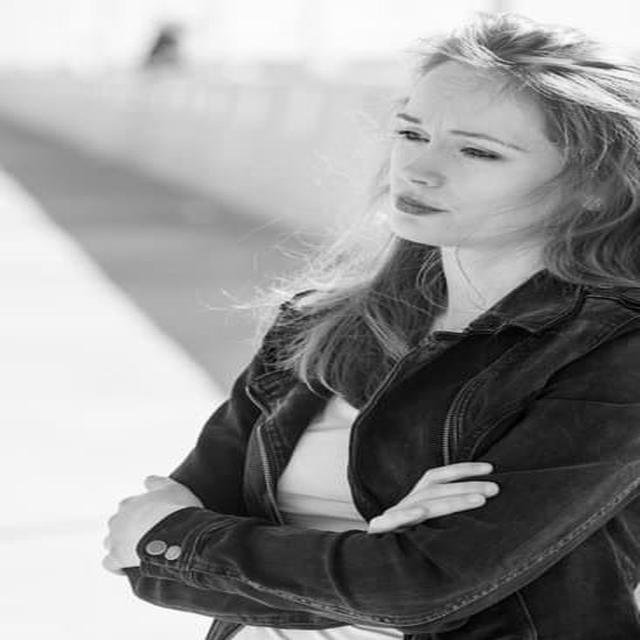Sadness: (391, 66, 551, 245)
